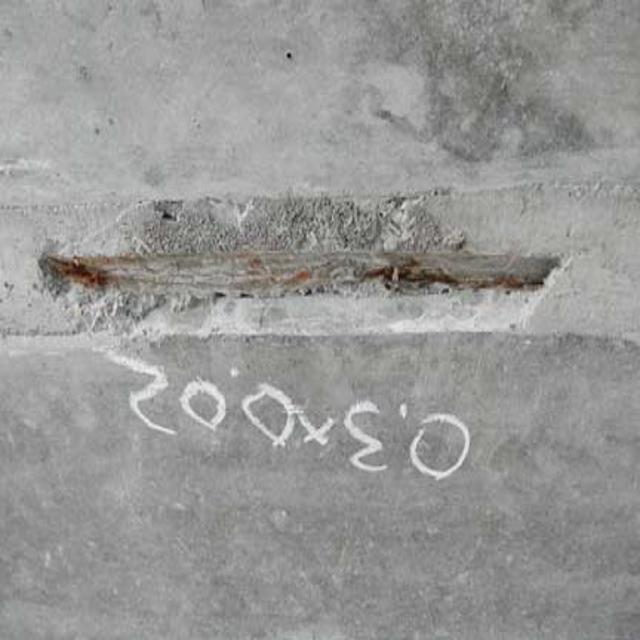spalling: (43, 165, 581, 368)
